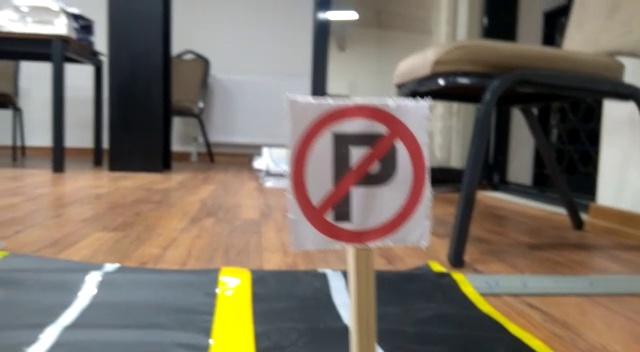park_yapilmaz: (288, 99, 428, 243)
